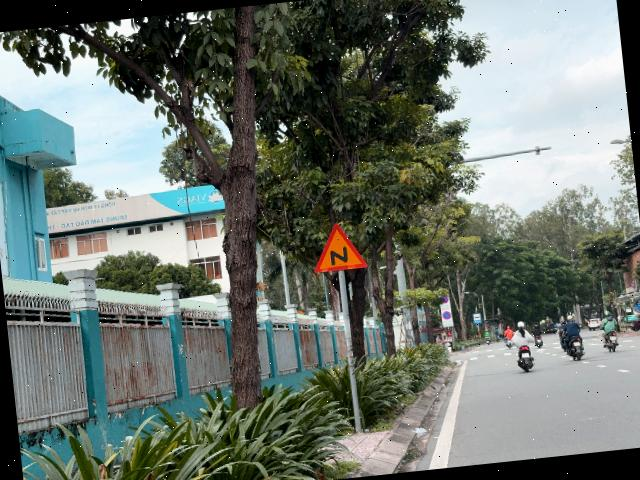nhieu-cho-ngoat-nguy-hiem-lien-tiep: (310, 220, 368, 272)
